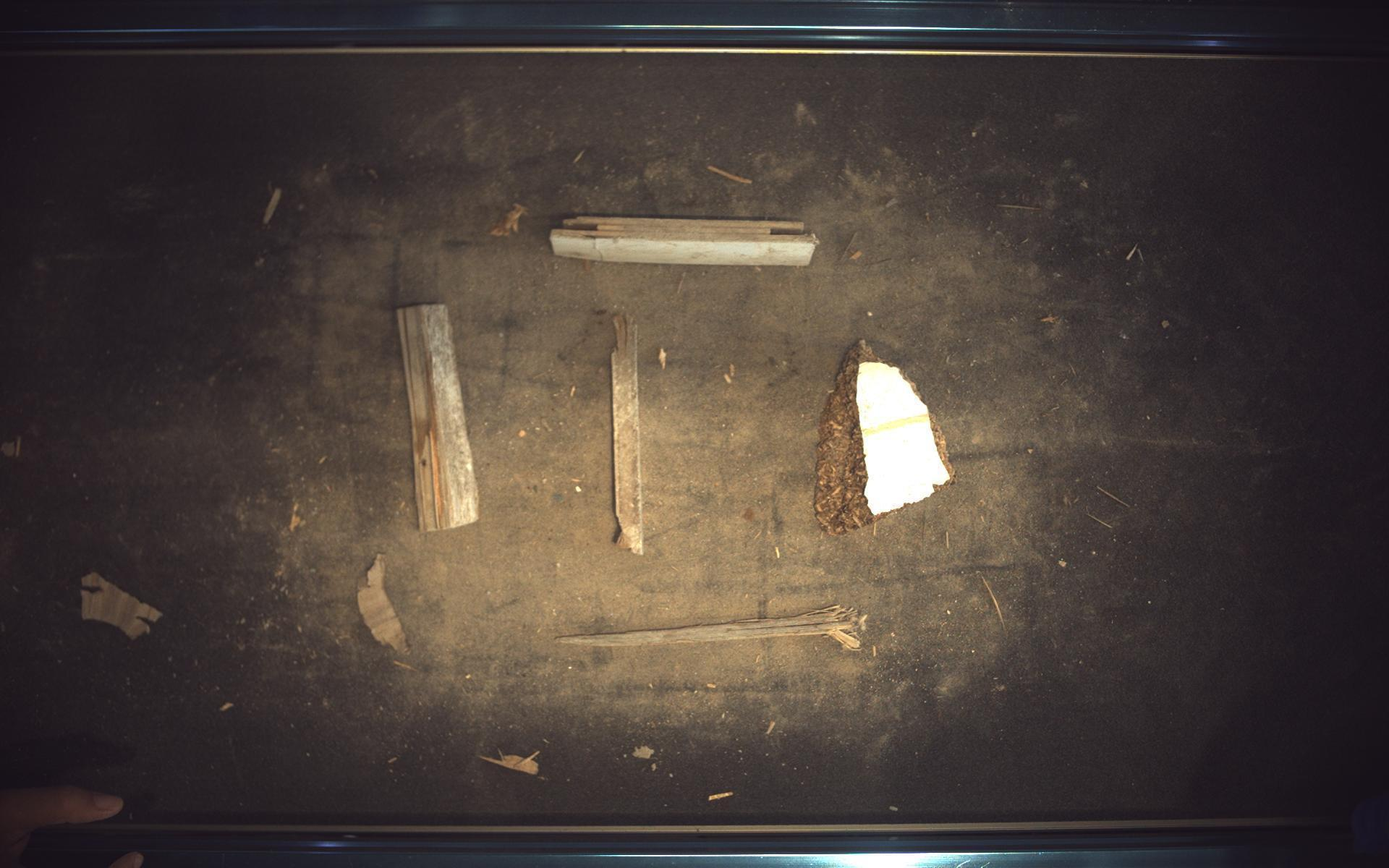wood: (816, 340, 956, 535), (396, 303, 479, 532), (560, 605, 868, 651), (551, 215, 820, 265), (612, 313, 645, 555)
